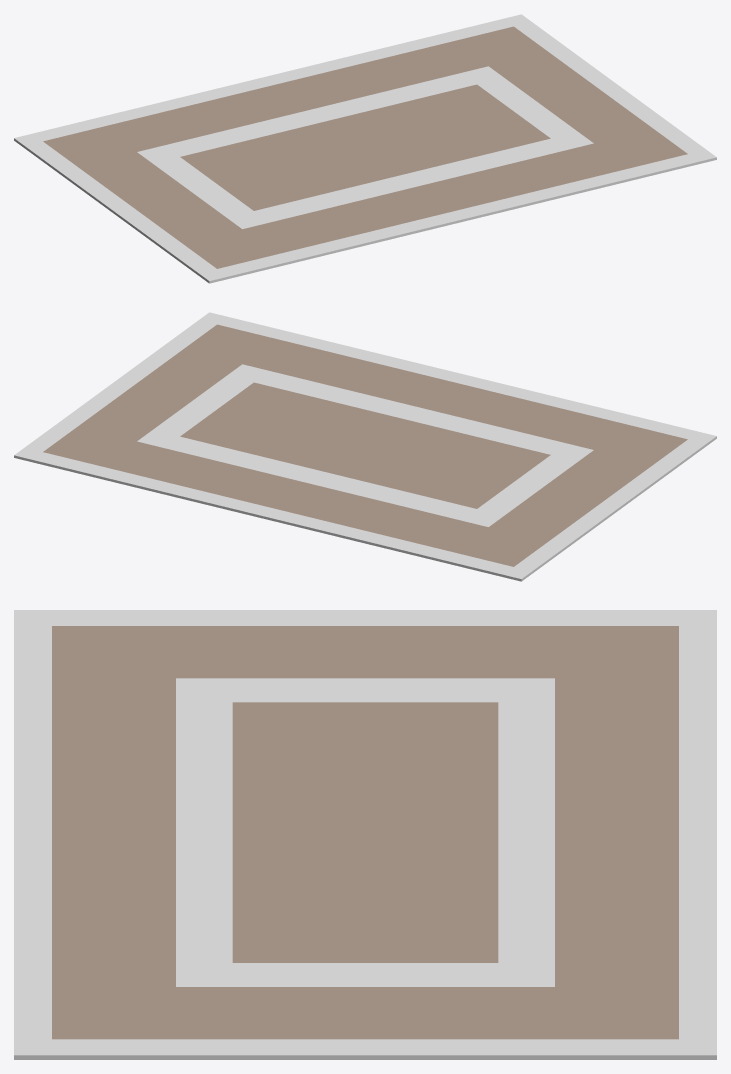
Rendered from cloth_mat2.fbx.
3 renders of one model, top to bottom at view 1: azimuth 30°, elevation 25°; view 2: azimuth 150°, elevation 25°; view 3: azimuth 270°, elevation 25°, orthographic. The views are drawn at different scales.
Parts seen in each view (by area): view 1: Catpet_02; view 2: Catpet_02; view 3: Catpet_02.
Boxes of the visible parts, x1,y1,x2,y2 form: Catpet_02: [14, 14, 716, 283]; Catpet_02: [14, 312, 716, 581]; Catpet_02: [14, 610, 716, 1059].
Bounding box in the file's own units: 307 × 1.43 × 205.
